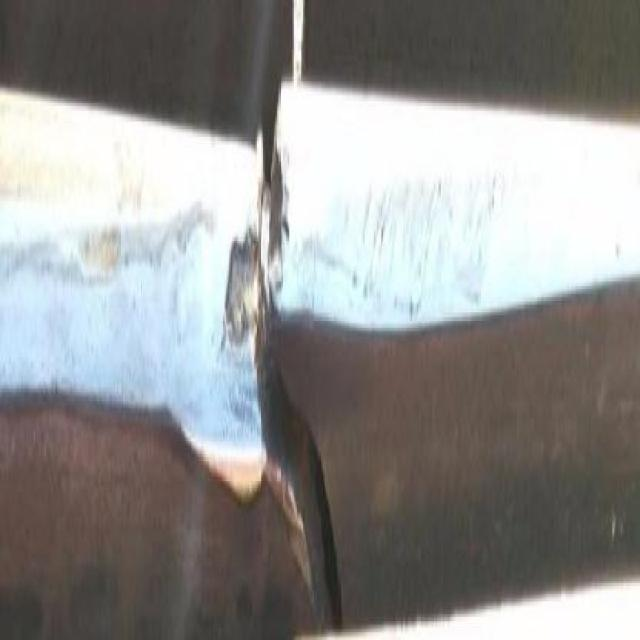defective: (10, 9, 630, 609)
